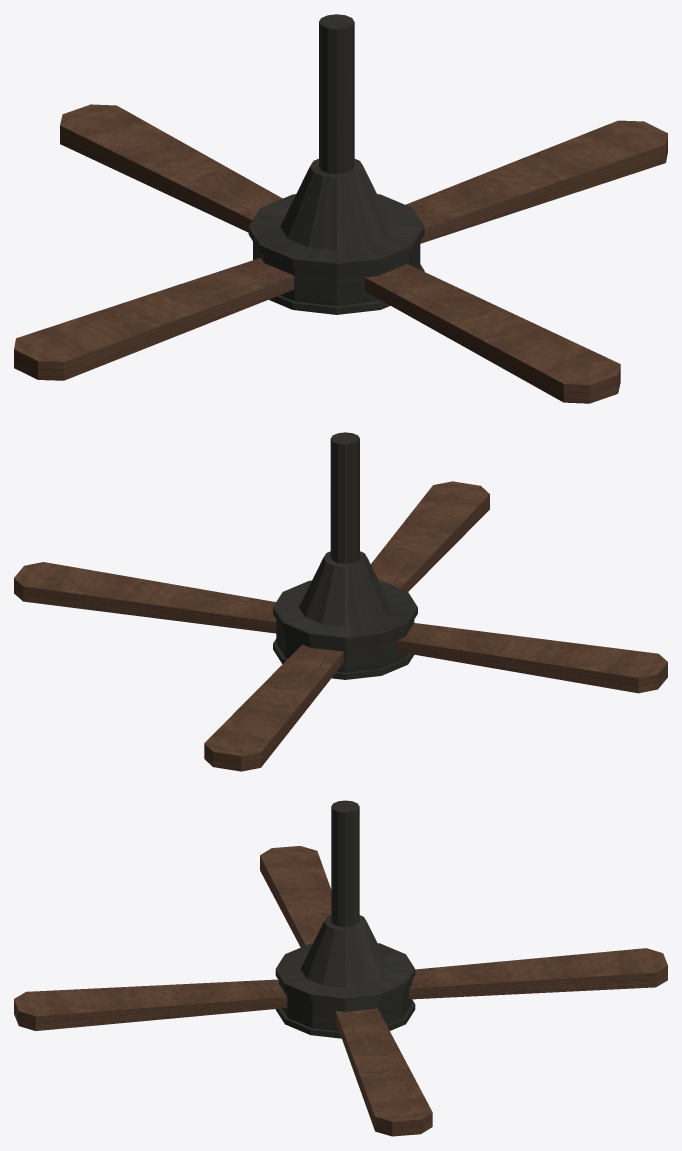
File: ceilingFan_anim.fbx
The picture shows the model from 3 angles, top to bottom: view 1: azimuth 30°, elevation 25°; view 2: azimuth 150°, elevation 25°; view 3: azimuth 270°, elevation 25°; orthographic projection. The views are drawn at different scales.
Parts seen in each view (by area): view 1: pCube2 (×2), pCube1 (×2), base; view 2: pCube1 (×2), pCube2 (×2), base; view 3: pCube2 (×2), base, pCube1 (×2).
Part boxes in pixels (x1,y1,x2,y2): pCube2 (×2): (365, 120, 667, 403); pCube1 (×2): (14, 104, 294, 380); base: (248, 14, 424, 314); pCube1 (×2): (204, 623, 667, 771); pCube2 (×2): (14, 481, 489, 633); base: (273, 432, 417, 679); pCube2 (×2): (14, 979, 432, 1136); base: (275, 800, 415, 1038); pCube1 (×2): (260, 846, 667, 999).
Size of the model in its own units: 50.04 by 17.48 by 50.16.
Materials: 3 (2 with a texture image).
